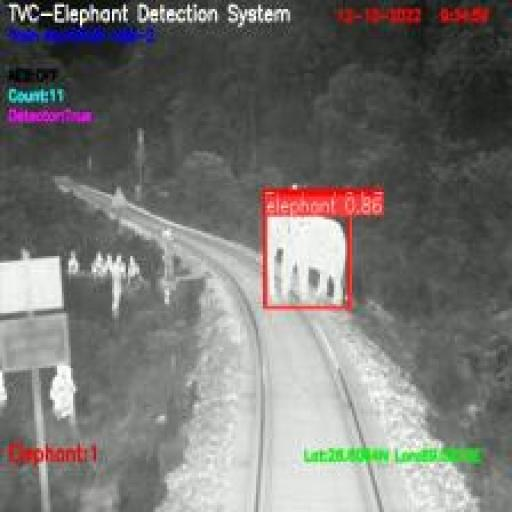Elephant: (267, 215, 352, 307)
